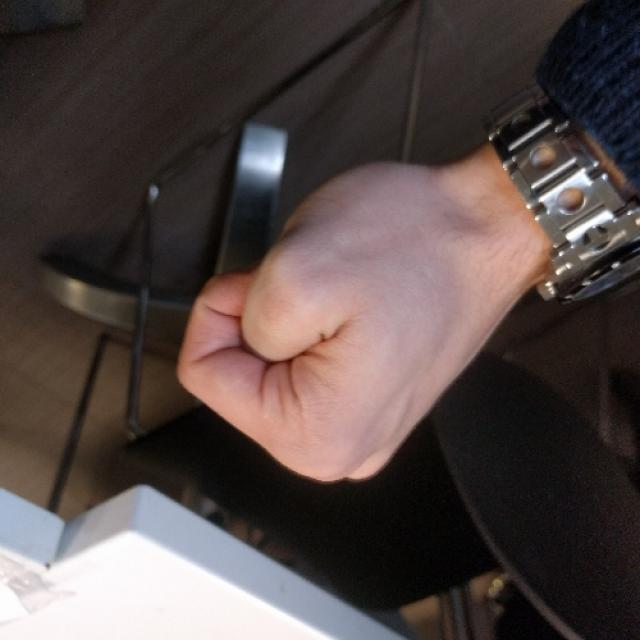rock: (170, 160, 488, 486)
